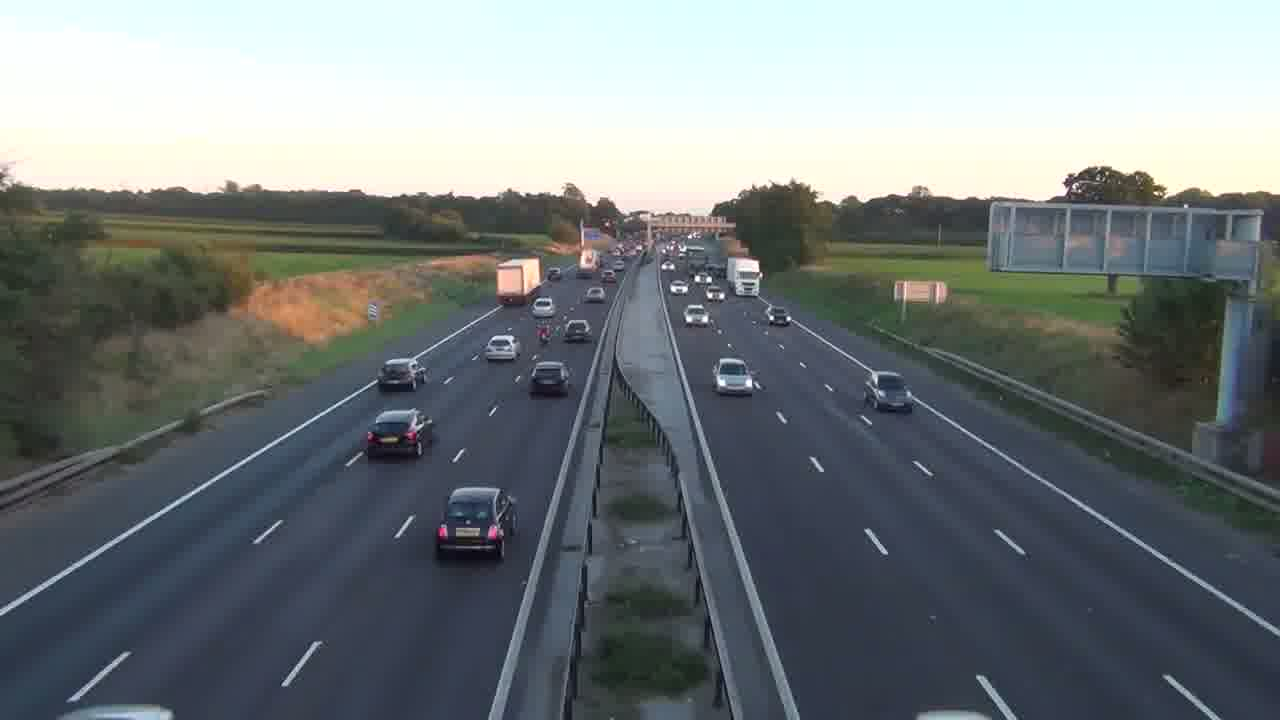car: (435, 485, 517, 561), (365, 407, 435, 459), (365, 407, 431, 459), (863, 370, 911, 412), (378, 356, 428, 391), (713, 356, 754, 396), (529, 360, 572, 397), (484, 334, 519, 363), (563, 319, 593, 343), (684, 305, 709, 326)
truck: (727, 257, 761, 297)
